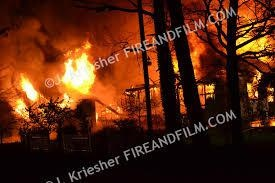fire: (56, 40, 96, 96)
